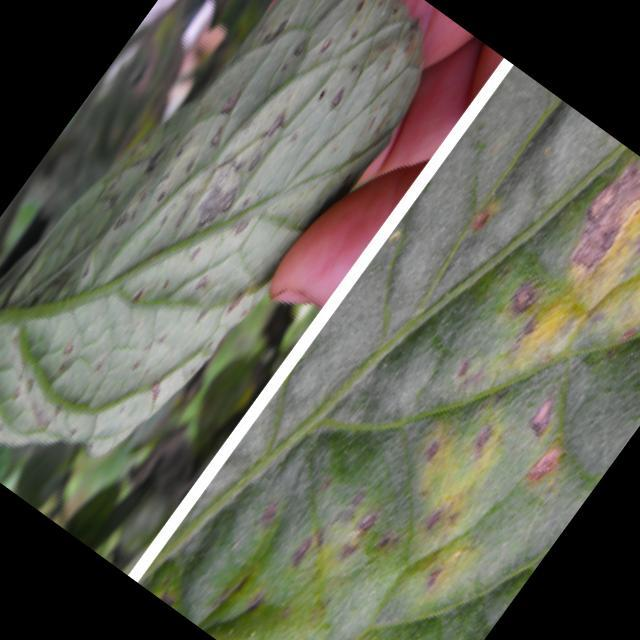Tomato Septoria spot leaf: (138, 66, 640, 640), (0, 0, 471, 542)
